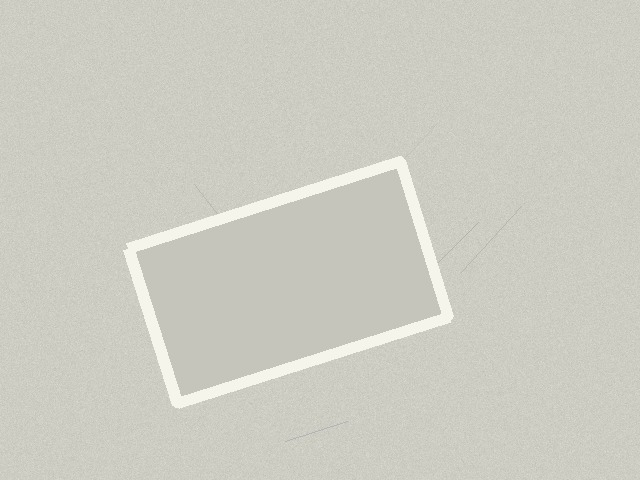parking_area: (128, 161, 448, 403)
